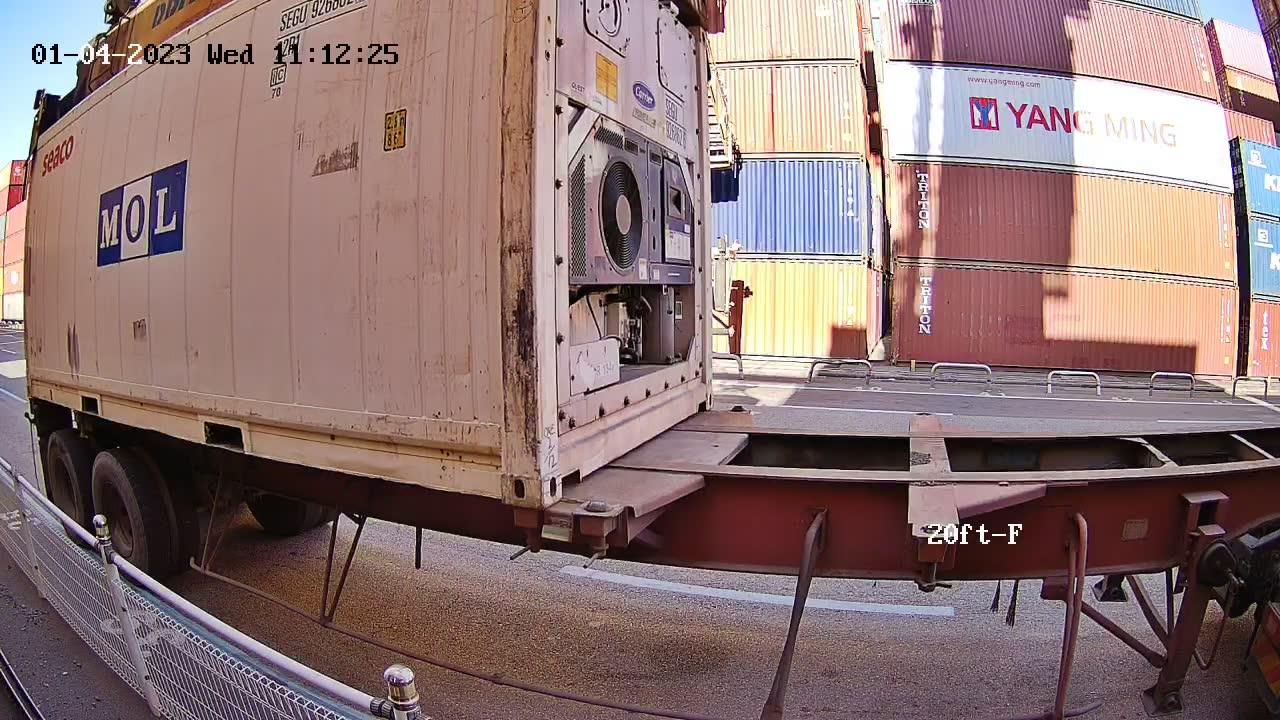Chassis: (577, 408, 754, 514)
Cone: (580, 499, 618, 561), (505, 506, 543, 559)
Hole_L: (537, 429, 588, 506)
Hole_R: (466, 432, 540, 506), (693, 373, 714, 412)
Tire: (90, 453, 149, 581), (46, 432, 85, 543)
